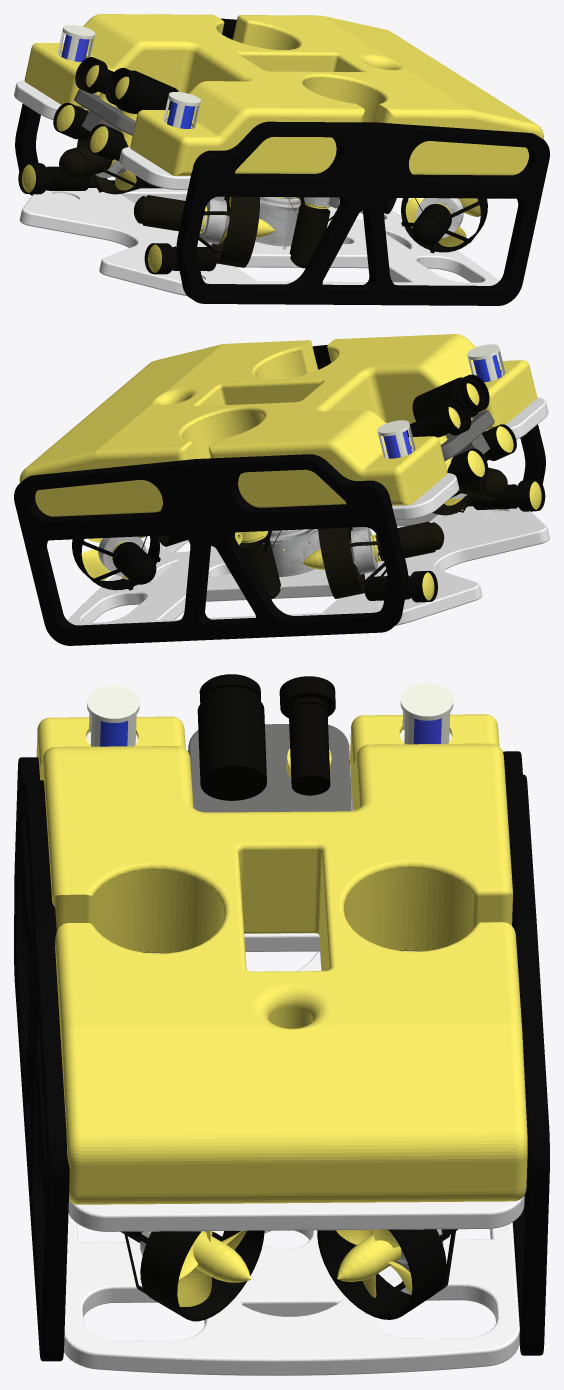
Rendered from rov.glb.
The picture shows the model from 3 angles, top to bottom: view 1: azimuth 30°, elevation 25°; view 2: azimuth 150°, elevation 25°; view 3: azimuth 270°, elevation 25°; orthographic projection. The views are drawn at different scales.
Parts seen in each view (by area): view 1: Lynx_part.005, Lynx_part.001, Lynx_part, Lynx_part.021, Lynx_part.003, Lynx_part.012, Lynx_part.035, Lynx_part.016, Lynx_part.052, Lynx_part.002, Lynx_part.030, Lynx_part.068 (+14 smaller); view 2: Lynx_part.005, Lynx_part.002, Lynx_part, Lynx_part.016, Lynx_part.006, Lynx_part.003, Lynx_part.035, Lynx_part.068, Lynx_part.032, Lynx_part.001, Lynx_part.026, Lynx_part.021 (+12 smaller); view 3: Lynx_part.005, Lynx_part, Lynx_part.001, Lynx_part.002, Lynx_part.003, Lynx_part.035, Lynx_part.030, Lynx_part.006, Lynx_part.012, Lynx_part.032, Lynx_part.014, Lynx_part.010 (+2 smaller).
Part boxes in pixels (x1,y1,x2,y2): Lynx_part.005: (24, 14, 543, 175); Lynx_part.001: (176, 121, 549, 305); Lynx_part: (19, 188, 498, 296); Lynx_part.021: (134, 195, 259, 267); Lynx_part.003: (14, 80, 190, 189); Lynx_part.012: (401, 198, 487, 253); Lynx_part.035: (105, 68, 178, 113); Lynx_part.016: (59, 138, 148, 194); Lynx_part.052: (287, 197, 333, 268); Lynx_part.002: (15, 18, 236, 195); Lynx_part.030: (74, 89, 135, 135); Lynx_part.068: (255, 197, 306, 246); Lynx_part.005: (19, 334, 536, 516); Lynx_part.002: (14, 454, 408, 645); Lynx_part: (67, 506, 549, 625); Lynx_part.016: (318, 521, 444, 598); Lynx_part.006: (72, 535, 160, 590); Lynx_part.003: (392, 397, 548, 520); Lynx_part.035: (412, 374, 489, 421); Lynx_part.068: (262, 529, 320, 576); Lynx_part.032: (406, 399, 471, 437); Lynx_part.001: (312, 345, 545, 511); Lynx_part.026: (239, 530, 281, 599); Lynx_part.021: (432, 467, 507, 515); Lynx_part.005: (36, 714, 527, 1204); Lynx_part: (64, 951, 519, 1375); Lynx_part.001: (14, 757, 69, 1361); Lynx_part.002: (503, 751, 549, 1355); Lynx_part.003: (68, 774, 524, 1231); Lynx_part.035: (197, 674, 266, 800); Lynx_part.030: (188, 724, 351, 812); Lynx_part.006: (317, 1229, 457, 1319); Lynx_part.012: (121, 1230, 264, 1321); Lynx_part.032: (279, 676, 335, 795); Lynx_part.014: (177, 1231, 250, 1306); Lynx_part.010: (336, 1229, 412, 1297).
Bounding box in the file's own units: 5.77 × 3.56 × 3.9.
Materials: 29 (2 with a texture image).
